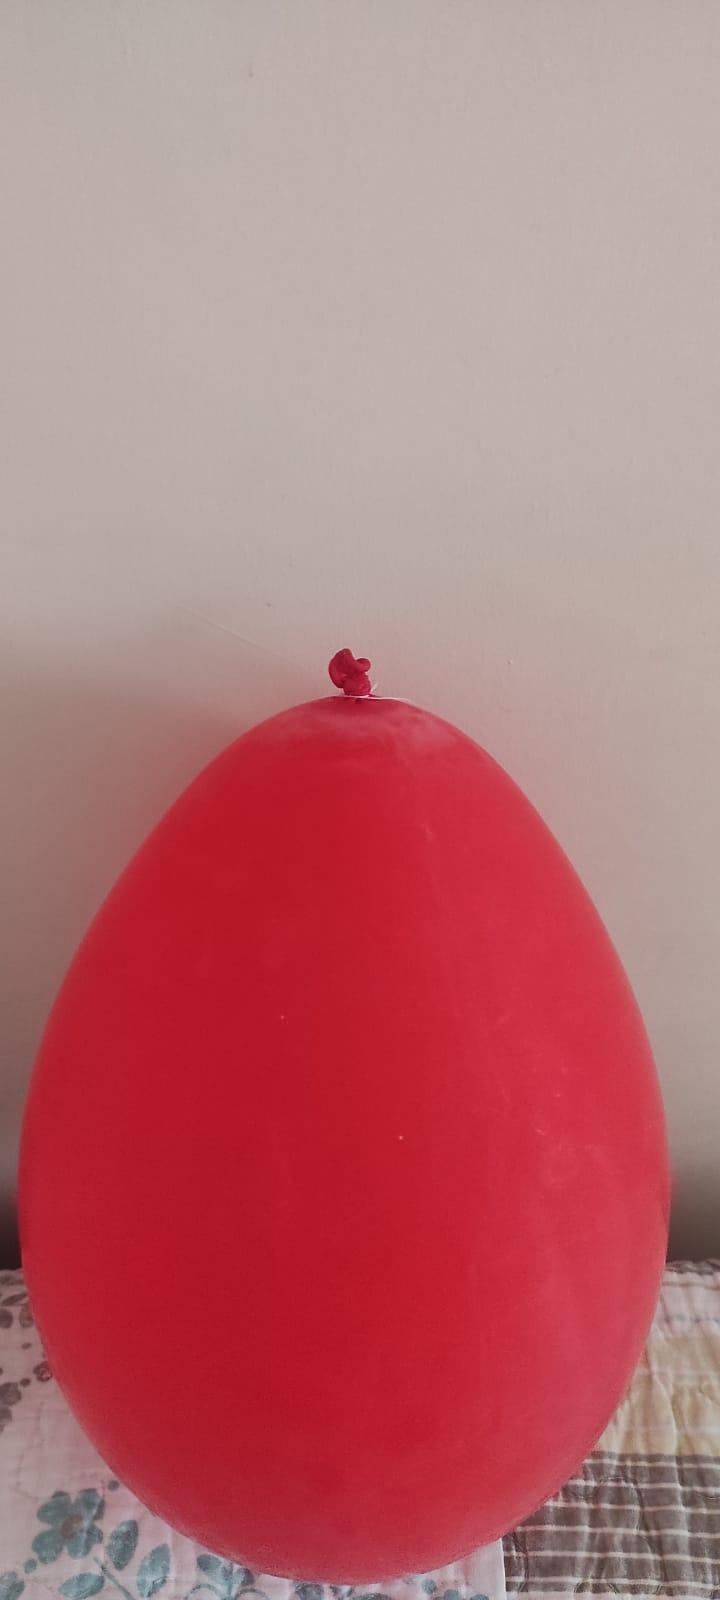red: (7, 638, 681, 1588)
